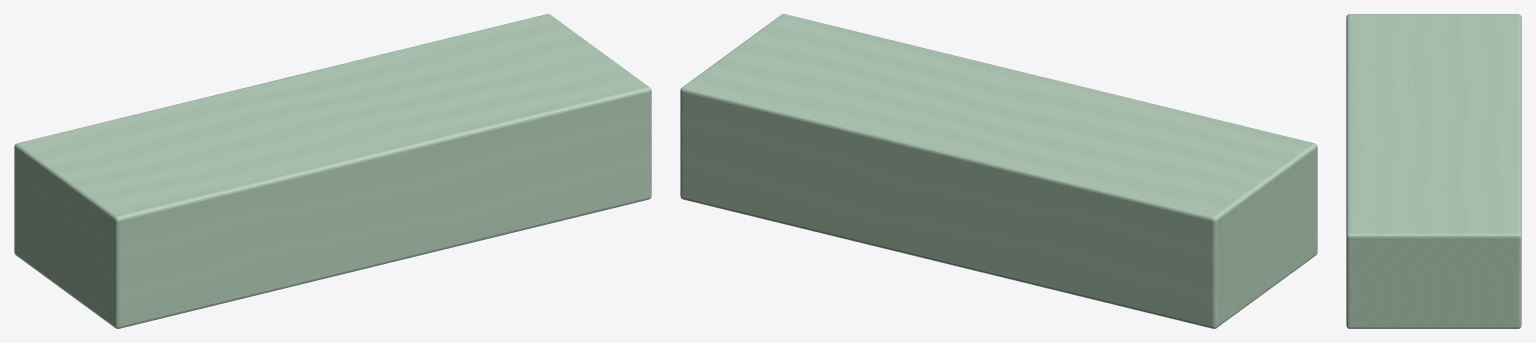
File: mint.glb
3 views of the same model, side by side, from view 1: azimuth 30°, elevation 25°; view 2: azimuth 150°, elevation 25°; view 3: azimuth 270°, elevation 25° (orthographic). The views are drawn at different scales.
Parts seen in each view (by area): view 1: Block_L01_S1; view 2: Block_L01_S1; view 3: Block_L01_S1.
Boxes of the visible parts, x1,y1,x2,y2 form: Block_L01_S1: (14,14,651,328); Block_L01_S1: (680,14,1317,328); Block_L01_S1: (1346,14,1521,328).
Size of the model in its own units: 0.075 by 0.015 by 0.025.
Materials: 1 (1 with a texture image).
